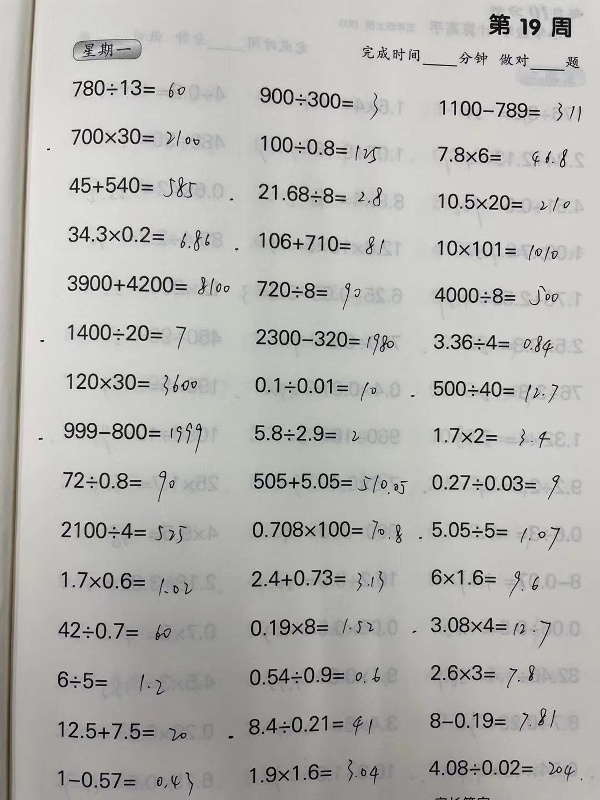equation: (57, 762, 199, 800), (59, 411, 204, 448), (430, 140, 577, 176), (63, 220, 213, 255), (255, 85, 382, 125), (247, 513, 405, 543), (415, 517, 562, 548), (58, 467, 177, 505), (435, 96, 585, 126), (428, 470, 563, 503), (425, 755, 577, 784), (63, 270, 232, 296), (251, 325, 397, 355), (248, 467, 410, 494), (426, 612, 553, 646), (246, 564, 386, 594), (252, 276, 365, 312), (61, 368, 200, 397), (64, 169, 198, 199), (245, 758, 382, 787), (56, 567, 195, 595), (424, 705, 558, 734), (54, 666, 172, 698), (435, 189, 573, 216), (64, 320, 188, 350), (244, 711, 376, 739), (430, 281, 562, 309), (429, 423, 552, 453), (425, 566, 548, 596), (428, 329, 555, 358), (250, 372, 380, 400), (428, 376, 560, 403), (253, 180, 385, 207), (67, 122, 202, 148), (244, 661, 383, 686), (54, 717, 187, 743), (56, 517, 189, 543), (254, 229, 387, 255), (427, 660, 538, 691), (255, 134, 382, 160), (245, 612, 376, 637), (53, 617, 173, 644), (433, 237, 561, 262), (68, 74, 188, 100), (250, 420, 361, 446)
